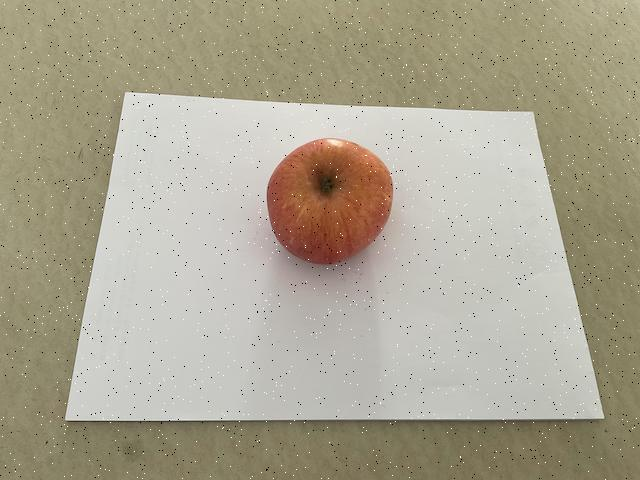apple: (262, 130, 396, 269)
